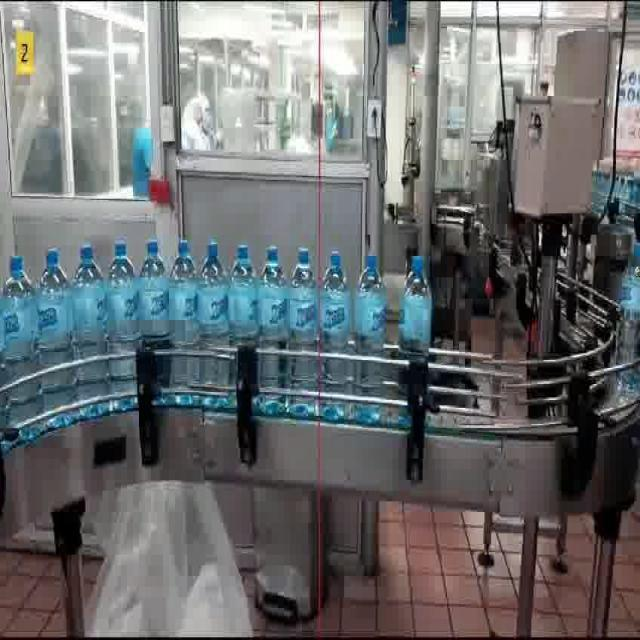bottle: (32, 248, 83, 436), (70, 237, 114, 425), (317, 241, 360, 428), (107, 240, 150, 418), (0, 250, 43, 425), (286, 240, 326, 426), (168, 230, 210, 407), (352, 244, 392, 428), (398, 248, 441, 364), (140, 232, 178, 356), (195, 238, 230, 345), (226, 242, 260, 346)
